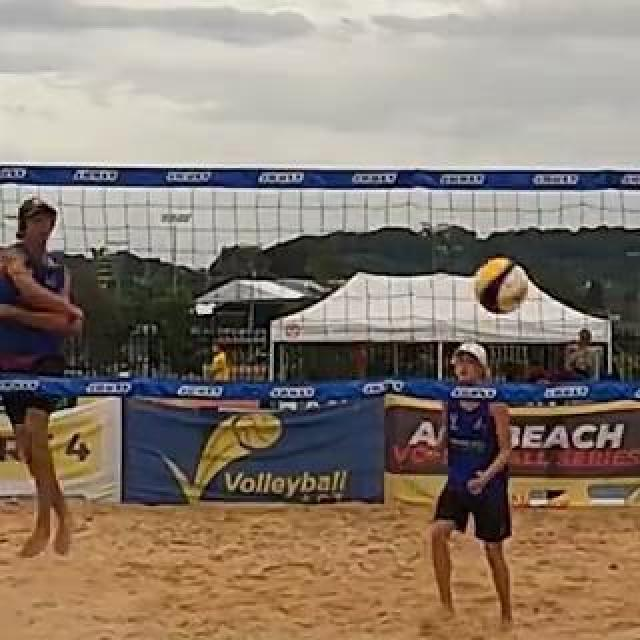volleyball: (473, 257, 527, 313)
